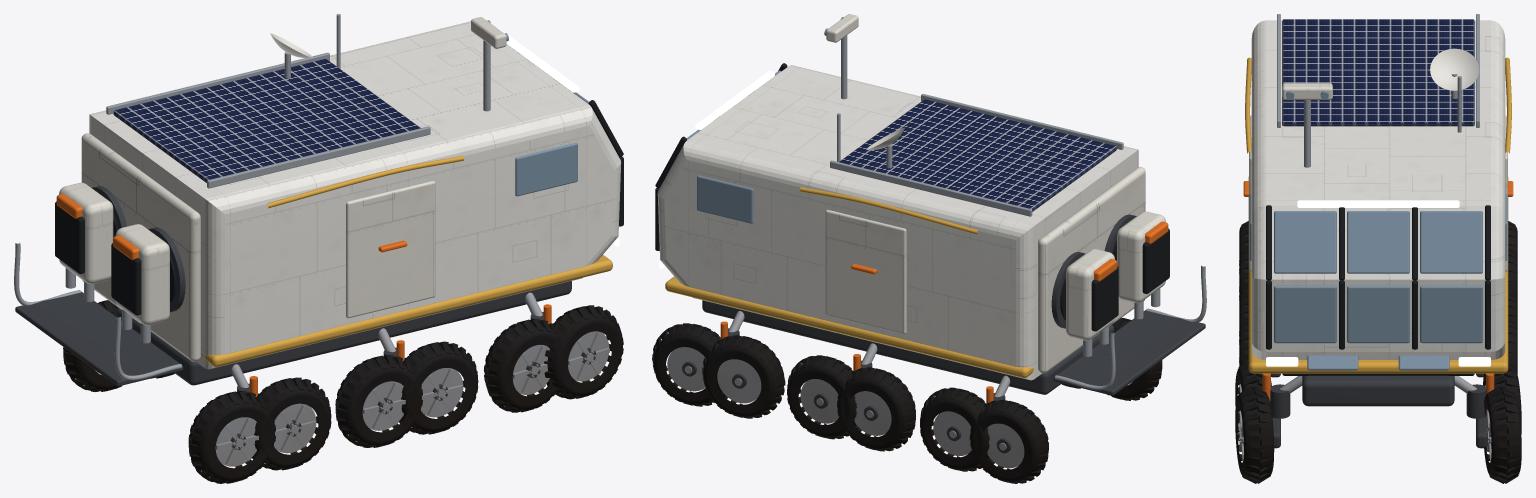
The model's file is sev.glb.
3 views of the same model, side by side, from view 1: azimuth 30°, elevation 25°; view 2: azimuth 150°, elevation 25°; view 3: azimuth 270°, elevation 25° (orthographic). The views are drawn at different scales.
Visible parts, largest first — view 1: cabin, roof_array, tire (×7), side_hatch, tread (×7), aft_bulkhead, porch, plss_backpack (×2), rim_face (×6), chassis, mmod_band, array_frame (×2) (+7 smaller); view 2: cabin, roof_array, tire (×7), side_hatch, rim_face (×6), aft_bulkhead, tread (×6), porch, plss_backpack (×2), chassis, mmod_band, array_frame (×2) (+5 smaller); view 3: cabin, roof_array, front_window_top (×3), front_window_low (×3), chassis, tread (×4), tire (×4), mullion (×8), mmod_band, foot_window (×2), hga_dish, roof_lightbar (+8 smaller).
Boxes of the visible parts, left/top/right/bottom form: cabin: left=89, top=21, right=621, bottom=369; roof_array: left=113, top=59, right=420, bottom=182; tire (×7): left=64, top=302, right=622, bottom=481; side_hatch: left=346, top=181, right=435, bottom=318; tread (×7): left=63, top=300, right=623, bottom=483; aft_bulkhead: left=81, top=133, right=200, bottom=361; porch: left=15, top=291, right=183, bottom=386; plss_backpack (×2): left=59, top=182, right=169, bottom=325; rim_face (×6): left=215, top=331, right=609, bottom=466; chassis: left=116, top=281, right=571, bottom=385; mmod_band: left=201, top=255, right=612, bottom=366; array_frame (×2): left=106, top=52, right=430, bottom=188; cabin: left=657, top=65, right=1138, bottom=380; roof_array: left=839, top=99, right=1116, bottom=211; tire (×7): left=653, top=320, right=1161, bottom=481; side_hatch: left=825, top=209, right=906, bottom=333; rim_face (×6): left=667, top=347, right=1024, bottom=468; aft_bulkhead: left=1038, top=167, right=1145, bottom=373; tread (×6): left=652, top=323, right=1048, bottom=483; porch: left=1053, top=310, right=1205, bottom=395; plss_backpack (×2): left=1066, top=211, right=1165, bottom=340; chassis: left=702, top=300, right=1114, bottom=394; mmod_band: left=665, top=276, right=1033, bottom=377; array_frame (×2): left=830, top=94, right=1123, bottom=216; cabin: left=1251, top=20, right=1505, bottom=359; roof_array: left=1282, top=19, right=1474, bottom=126; front_window_top (×3): left=1274, top=211, right=1482, bottom=273; front_window_low (×3): left=1274, top=285, right=1482, bottom=343; chassis: left=1302, top=375, right=1454, bottom=406; tread (×4): left=1237, top=361, right=1520, bottom=483; tire (×4): left=1235, top=366, right=1521, bottom=476; mullion (×8): left=1266, top=205, right=1490, bottom=349; mmod_band: left=1248, top=177, right=1508, bottom=373; foot_window (×2): left=1307, top=355, right=1449, bottom=370; hga_dish: left=1430, top=48, right=1478, bottom=90; roof_lightbar: left=1297, top=200, right=1459, bottom=207.
Size of the model in its own units: 5.65 by 3.94 by 2.82.
12 materials, 3 textured.
